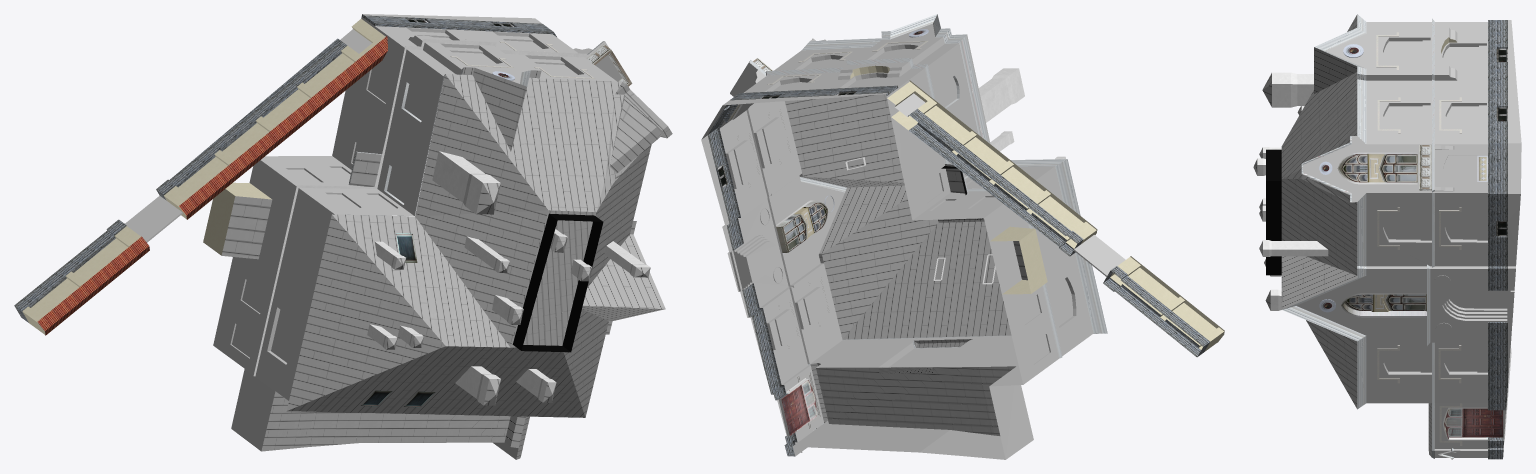
Rendered from Pikk_73.obj.
The picture shows the model from 3 angles, left to right: view 1: azimuth 30°, elevation 25°; view 2: azimuth 150°, elevation 25°; view 3: azimuth 270°, elevation 25°; orthographic projection. The views are drawn at different scales.
Parts seen in each view (by area): view 1: Pikk_73; view 2: Pikk_73; view 3: Pikk_73.
Boxes of the visible parts, box(x1,y1,x2,y2) form: Pikk_73: box(14, 14, 672, 459); Pikk_73: box(701, 14, 1224, 459); Pikk_73: box(1253, 14, 1521, 459).
Size of the model in its own units: 38.51 by 28.72 by 17.6.
